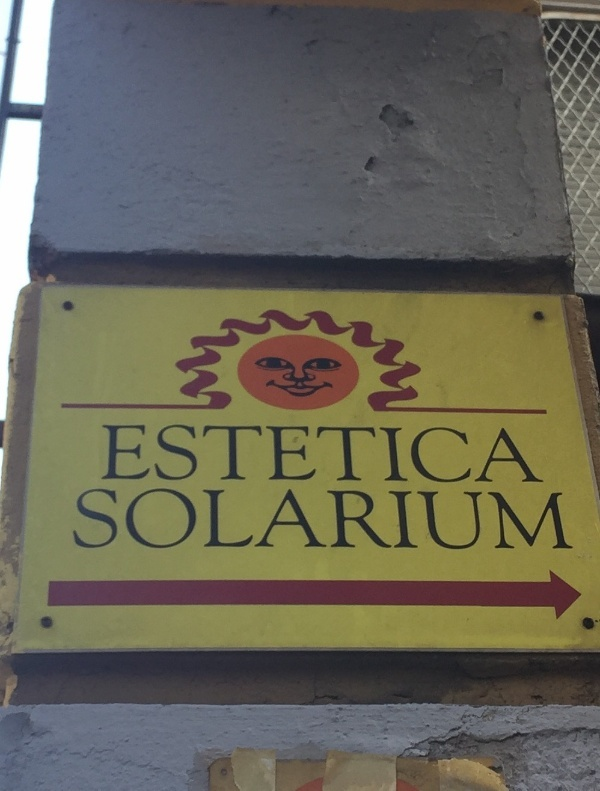text: (529, 422, 545, 484), (113, 422, 128, 484), (129, 422, 144, 484), (145, 422, 160, 484), (161, 422, 176, 484), (177, 422, 192, 484), (193, 422, 208, 484), (209, 422, 224, 484), (225, 422, 240, 484), (241, 422, 256, 484), (257, 422, 272, 484), (273, 422, 288, 484), (289, 422, 304, 484), (305, 422, 320, 484), (321, 422, 336, 484), (337, 422, 352, 484), (353, 422, 368, 484), (369, 422, 384, 484), (385, 422, 400, 484), (401, 422, 416, 484), (417, 422, 432, 484), (433, 422, 448, 484), (449, 422, 464, 484), (465, 422, 480, 484), (481, 422, 496, 484), (497, 422, 512, 484), (513, 422, 528, 484), (81, 491, 96, 550), (97, 491, 112, 550), (113, 491, 128, 550), (129, 491, 144, 550), (145, 491, 160, 550), (161, 491, 176, 550), (177, 491, 192, 550), (193, 491, 208, 550), (209, 491, 224, 550), (225, 491, 240, 550), (241, 491, 256, 550), (257, 491, 272, 550), (273, 491, 288, 550), (289, 491, 304, 550), (305, 491, 320, 550), (321, 491, 336, 550), (337, 491, 352, 550), (353, 491, 368, 550), (369, 491, 384, 550), (385, 491, 400, 550), (401, 491, 416, 550), (417, 491, 432, 550), (433, 491, 448, 550), (449, 491, 464, 550), (465, 491, 480, 550), (481, 491, 496, 550), (497, 491, 512, 550), (513, 491, 528, 550), (529, 491, 544, 550), (545, 491, 560, 550), (561, 491, 574, 550), (103, 422, 112, 484), (75, 491, 80, 550)
